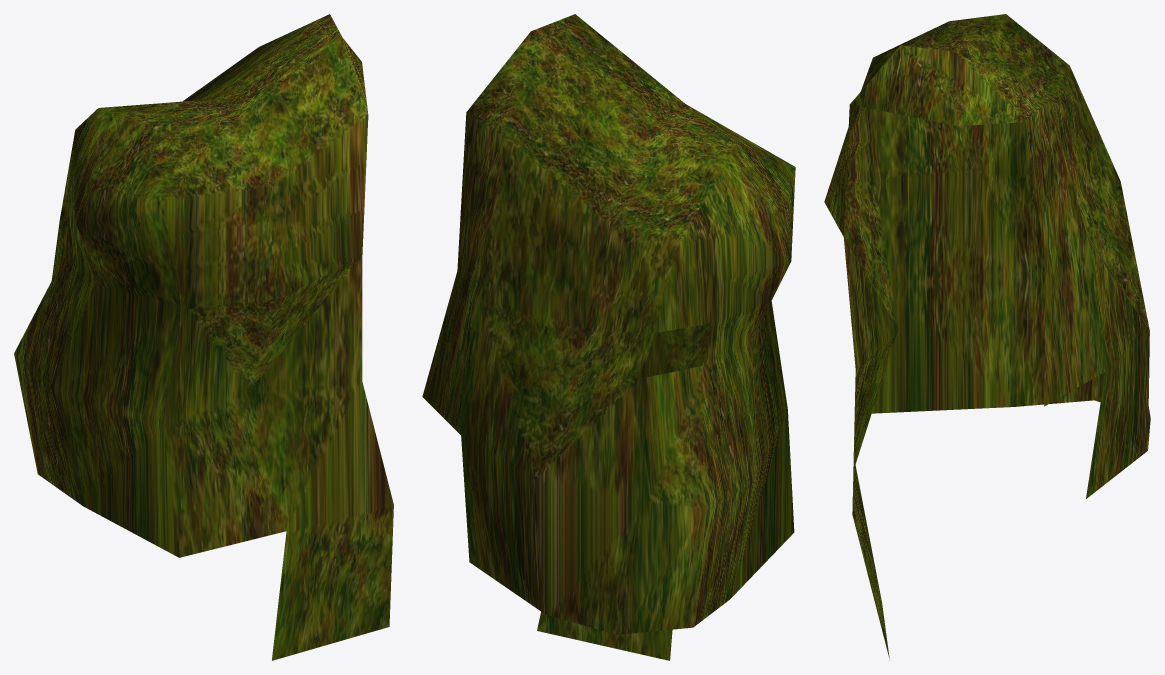
The model's file is TROLLHOLE02_RM_PSURF93.fbx.
3 renders of one model, left to right at view 1: azimuth 30°, elevation 25°; view 2: azimuth 150°, elevation 25°; view 3: azimuth 270°, elevation 25°, orthographic. The views are drawn at different scales.
Visible parts, largest first — view 1: TROLLHOLE02_RM_PSURF93; view 2: TROLLHOLE02_RM_PSURF93; view 3: TROLLHOLE02_RM_PSURF93.
Part boxes in pixels (x1=…): TROLLHOLE02_RM_PSURF93: x1=14, y1=14, x2=393, y2=660; TROLLHOLE02_RM_PSURF93: x1=422, y1=14, x2=795, y2=660; TROLLHOLE02_RM_PSURF93: x1=824, y1=14, x2=1150, y2=660.
Bounding box in the file's own units: 48334 × 89793 × 44486.
1 material, 1 textured.
